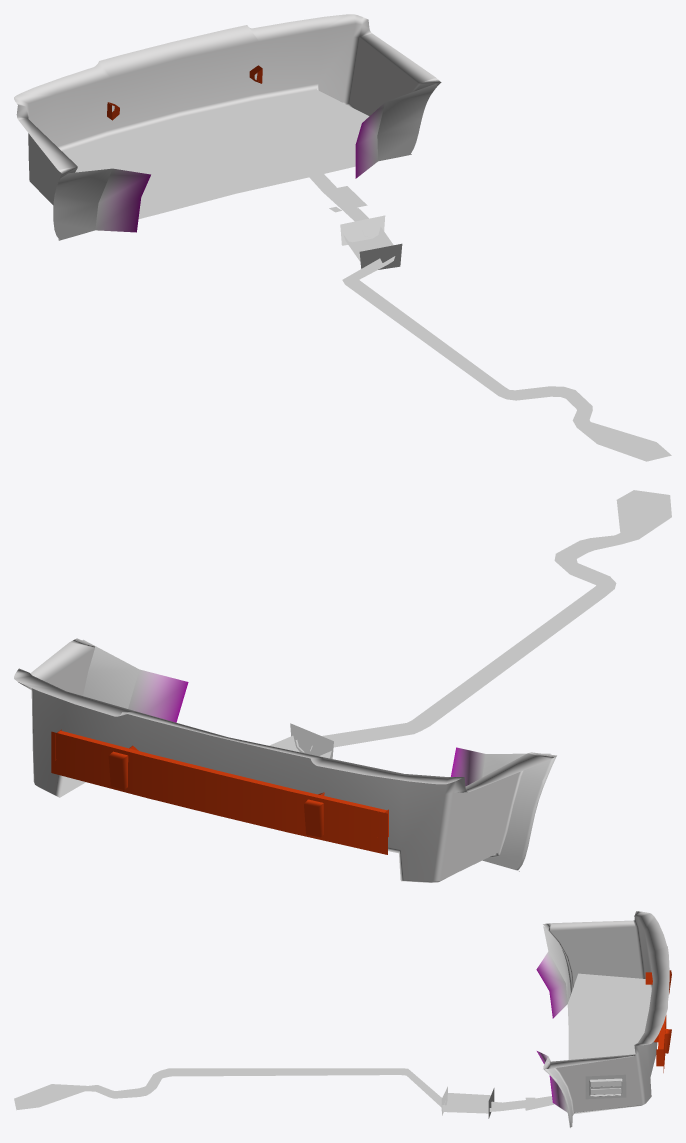
Rendered from Car_Nissan_SkylineGTRVspecR34_1999_BumperChassisR_SetE_AltA.fbx.
The picture shows the model from 3 angles, top to bottom: view 1: azimuth 30°, elevation 25°; view 2: azimuth 150°, elevation 25°; view 3: azimuth 270°, elevation 25°; orthographic projection. The views are drawn at different scales.
Parts seen in each view (by area): view 1: BumperChassisR 6; view 2: BumperChassisR 6; view 3: BumperChassisR 6.
Part boxes in pixels (x1=…): BumperChassisR 6: x1=14, y1=14, x2=671, y2=461; BumperChassisR 6: x1=14, y1=490, x2=671, y2=882; BumperChassisR 6: x1=14, y1=911, x2=671, y2=1128.
Size of the model in its own units: 1.77 by 0.6211 by 3.38.
